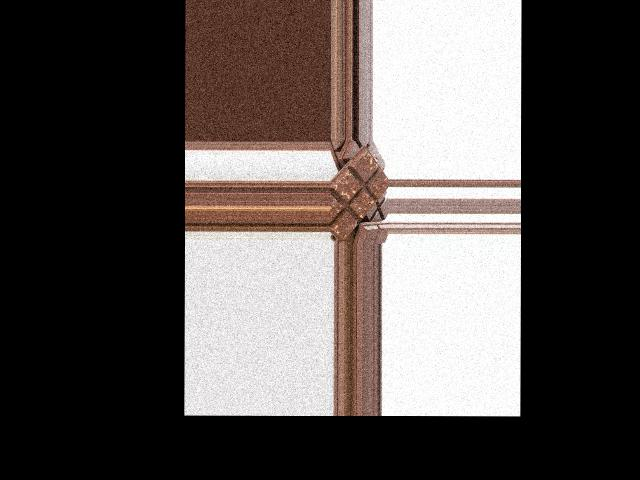chocolate: (329, 152, 387, 240)
